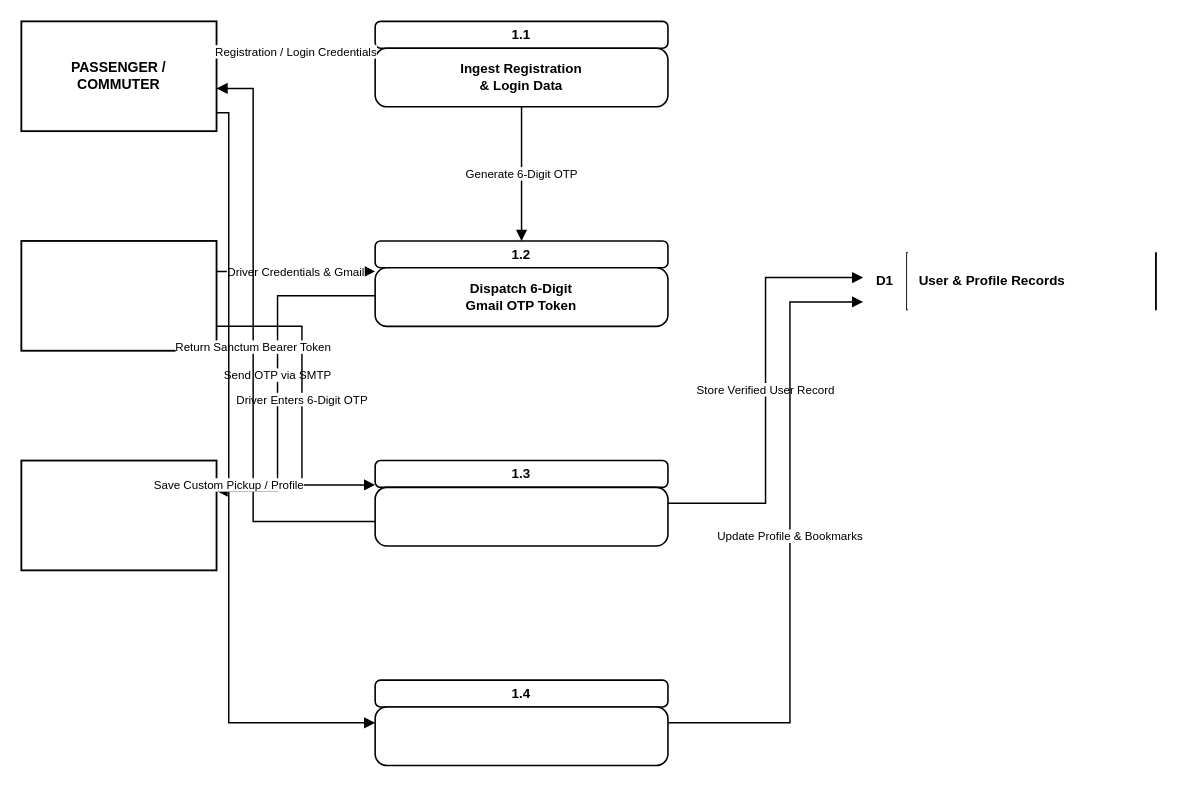
This 1179x788 diagram has some shape labels left out. Each missing label, with the box of its shape:
GMAIL SMTP SERVICE (API): (20, 459, 217, 571)
Manage User Profile & Saved Locations: (374, 706, 668, 766)
TRICYCLE DRIVER: (20, 239, 217, 351)
Verify OTP & Issue Sanctum Bearer Token: (374, 486, 668, 546)
